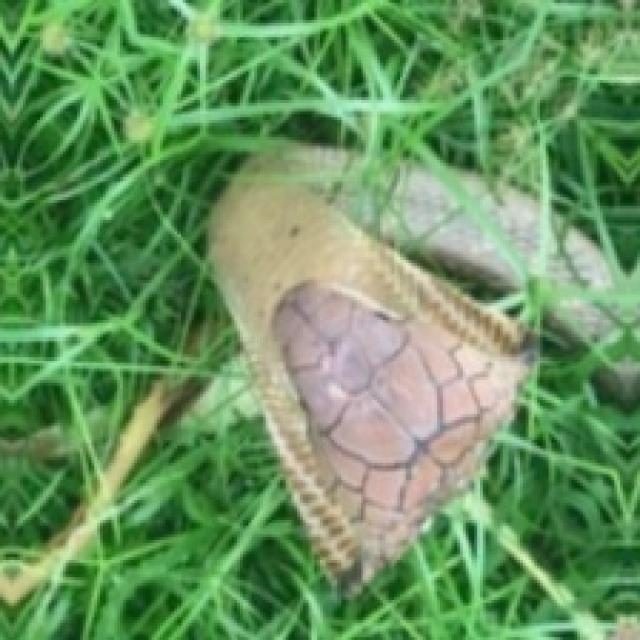king cobra: (209, 149, 534, 591)
